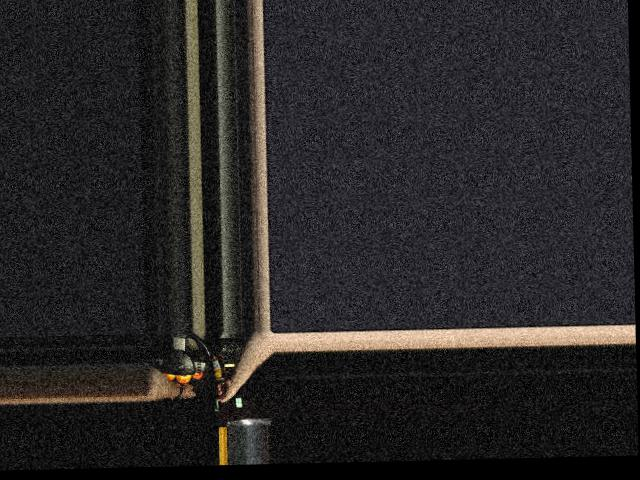beer: (210, 355, 229, 402)
